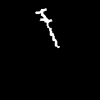double_crochet: (36, 9, 58, 47)
